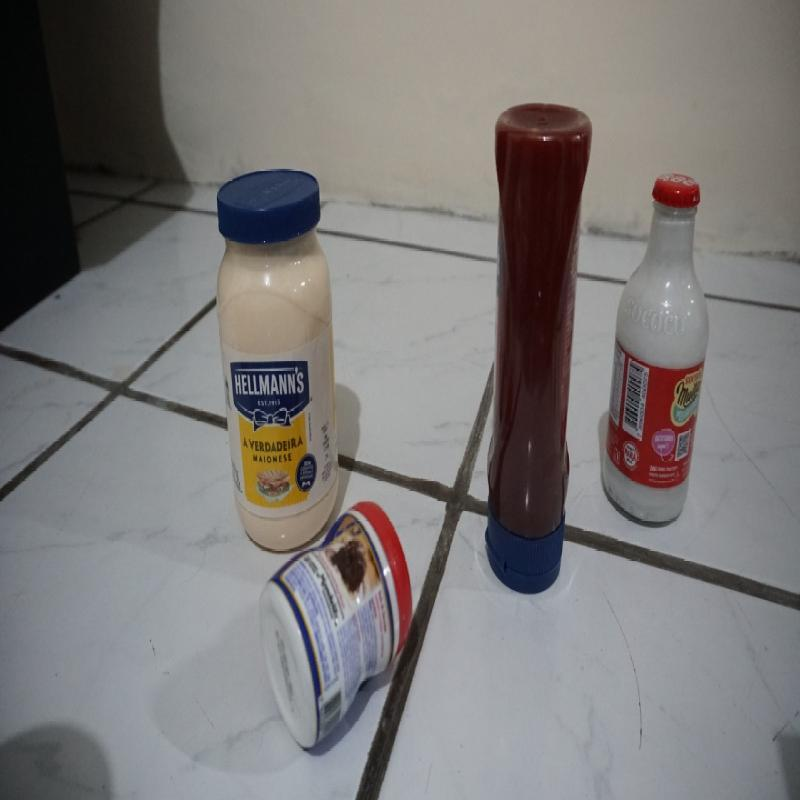Coconut Milk: (603, 161, 720, 532)
Ketchup: (487, 100, 592, 599)
Mayonnaise: (211, 164, 334, 533)
Yeast: (261, 510, 430, 746)
